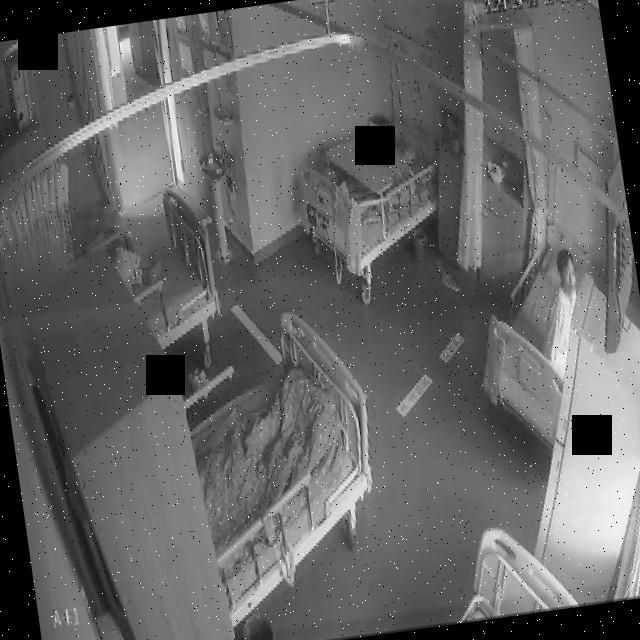bed: (175, 311, 389, 624), (464, 222, 610, 458), (293, 113, 452, 280), (110, 182, 226, 350)
patient: (528, 243, 597, 379)
sit: (530, 244, 597, 378)
